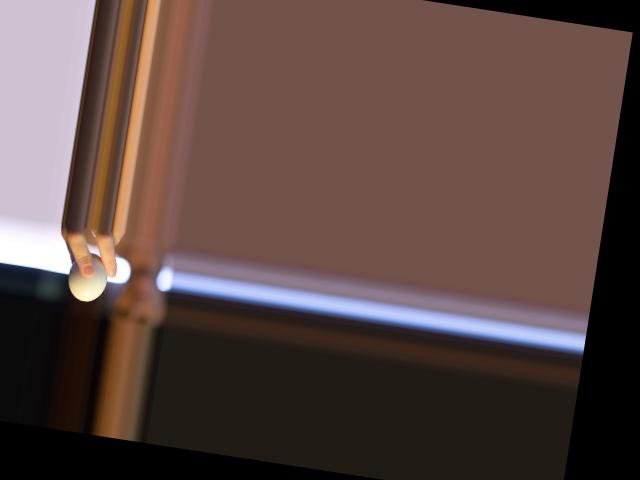egg: (66, 249, 112, 304)
